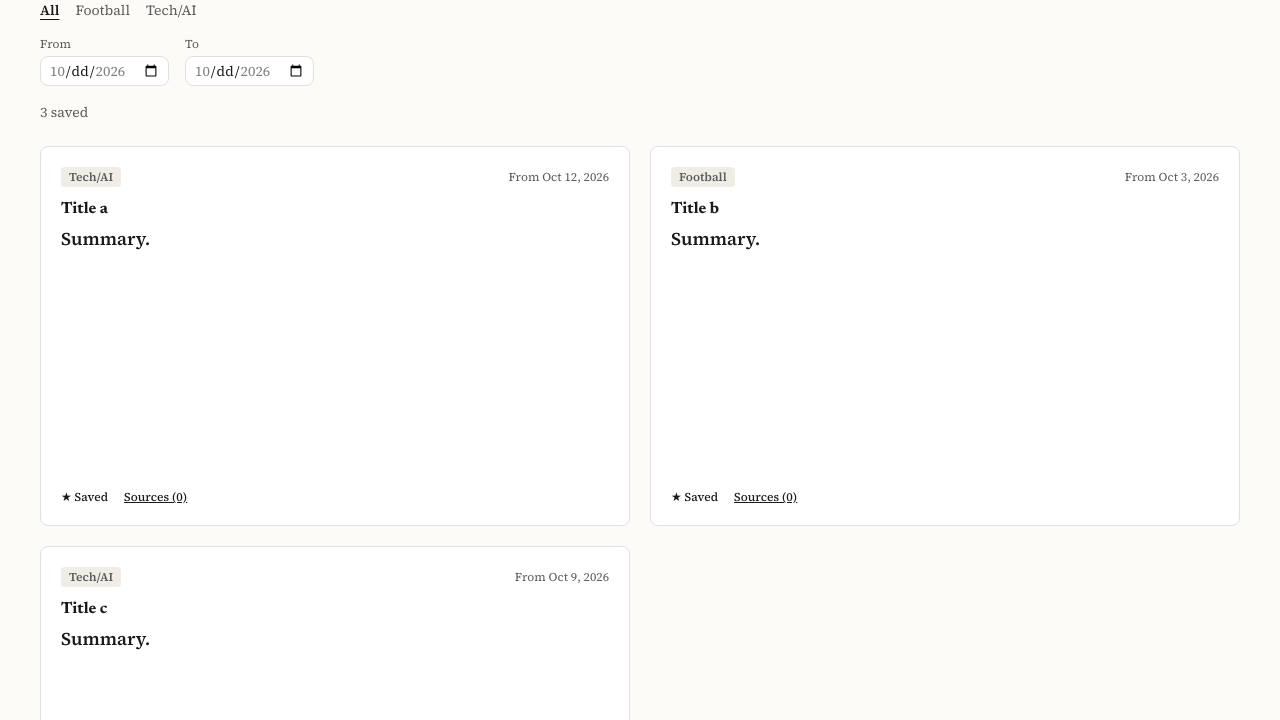
it: SavedList › removes the card once the reader confirms and the server agrees
Click the 1st button "★ Saved": (85, 497) x1=61 y1=489 x2=108 y2=505
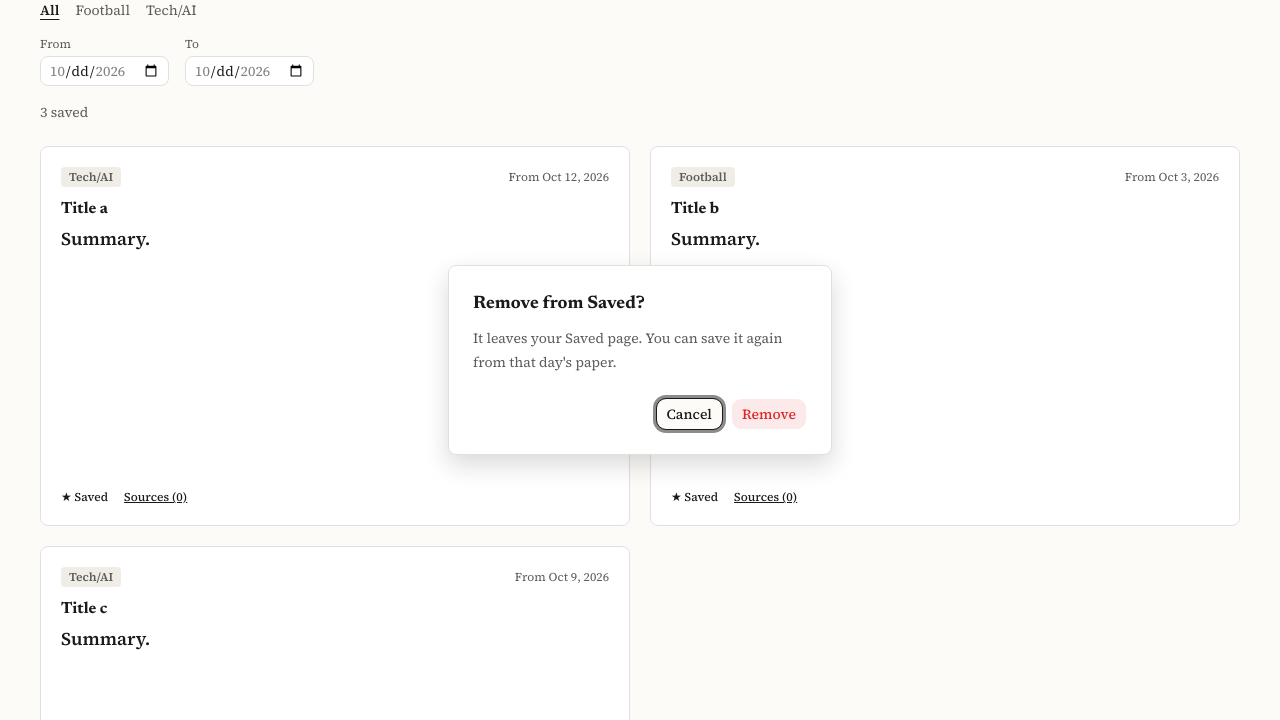
Click the button "Remove": (769, 414) x1=731 y1=398 x2=807 y2=430
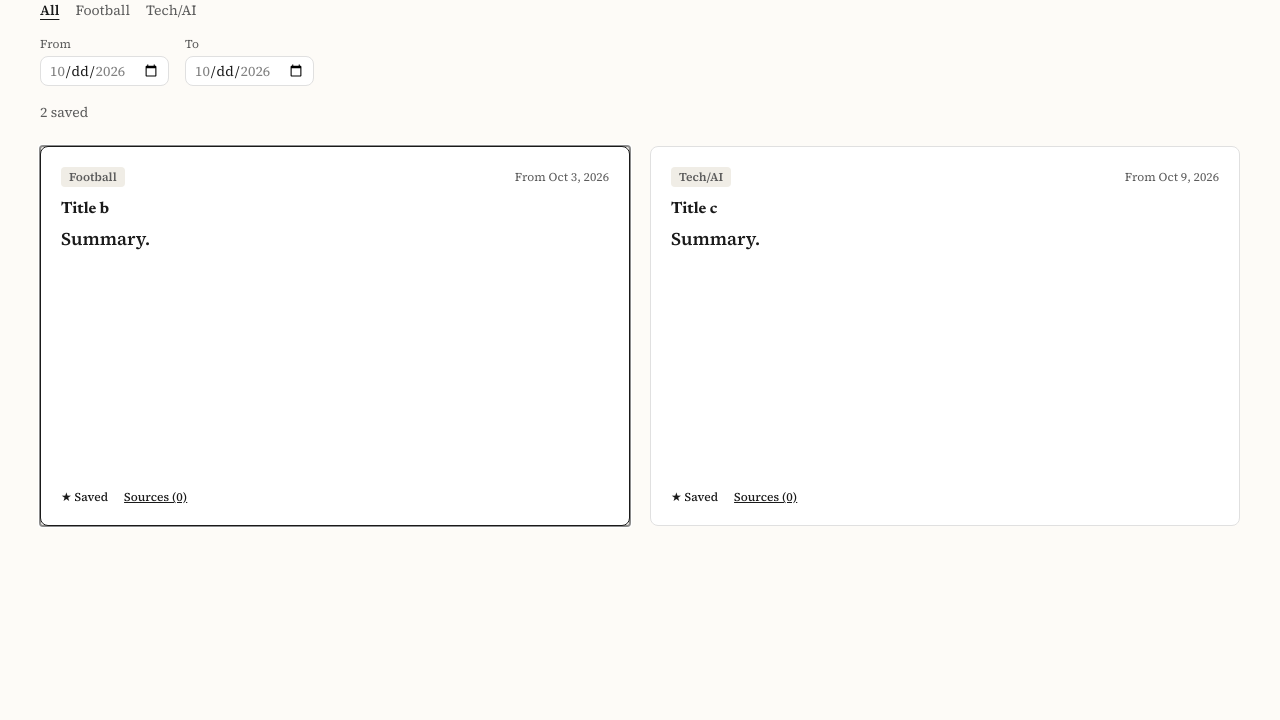
Result: the dialog is gone
Result: the text "2 saved" is shown at x1=40 y1=102 x2=88 y2=122
